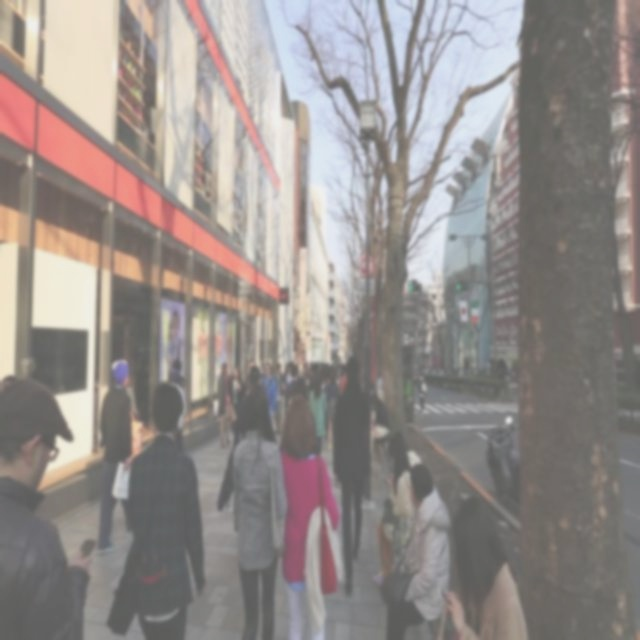pessoa: (108, 374, 211, 638), (0, 372, 100, 639), (276, 392, 344, 639), (226, 384, 289, 639), (436, 493, 530, 639), (378, 462, 451, 638), (330, 351, 375, 598), (370, 428, 423, 591), (95, 358, 134, 558), (371, 444, 418, 590), (238, 362, 280, 447), (166, 356, 187, 456), (226, 358, 246, 456), (308, 371, 328, 458), (215, 360, 233, 450), (193, 318, 224, 366), (370, 384, 390, 454), (162, 306, 184, 369), (260, 362, 278, 434), (296, 357, 346, 380), (274, 361, 288, 436), (126, 376, 142, 423), (322, 378, 332, 446), (280, 360, 292, 415), (307, 361, 319, 403), (417, 371, 427, 418), (326, 372, 338, 409), (503, 357, 516, 388), (286, 362, 298, 394), (361, 362, 373, 394), (282, 358, 294, 388), (376, 368, 384, 403), (247, 357, 256, 388), (304, 378, 313, 408), (334, 379, 347, 397)
